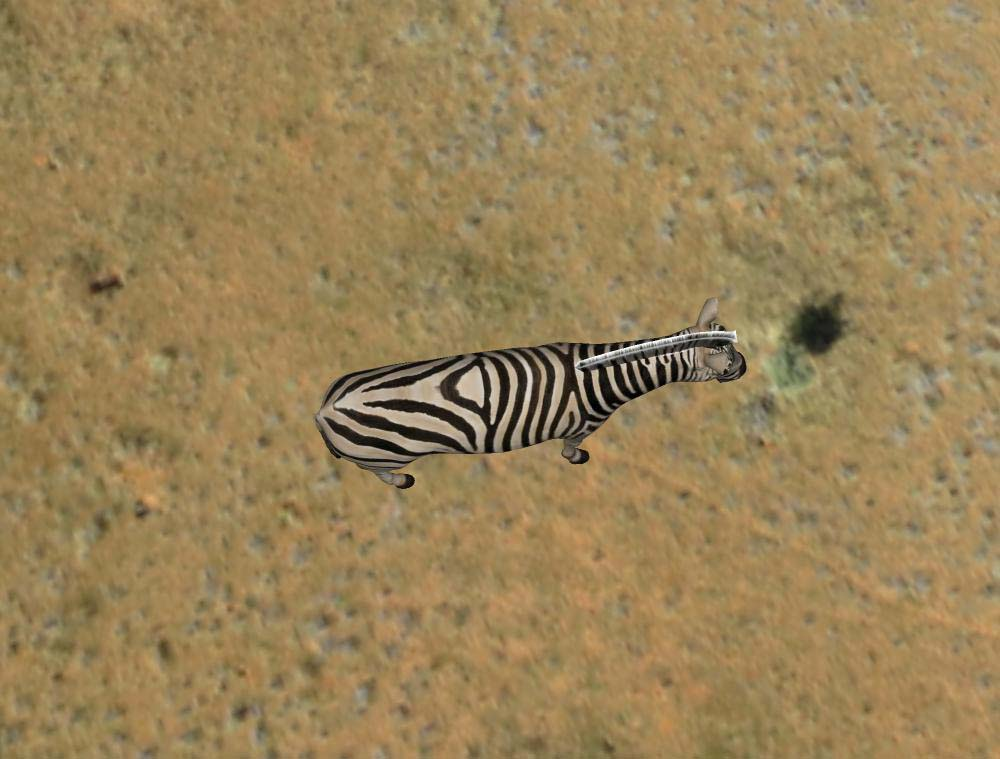zebra: (317, 297, 753, 496)
